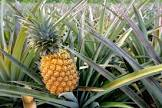Pineapple: (24, 11, 79, 94)
